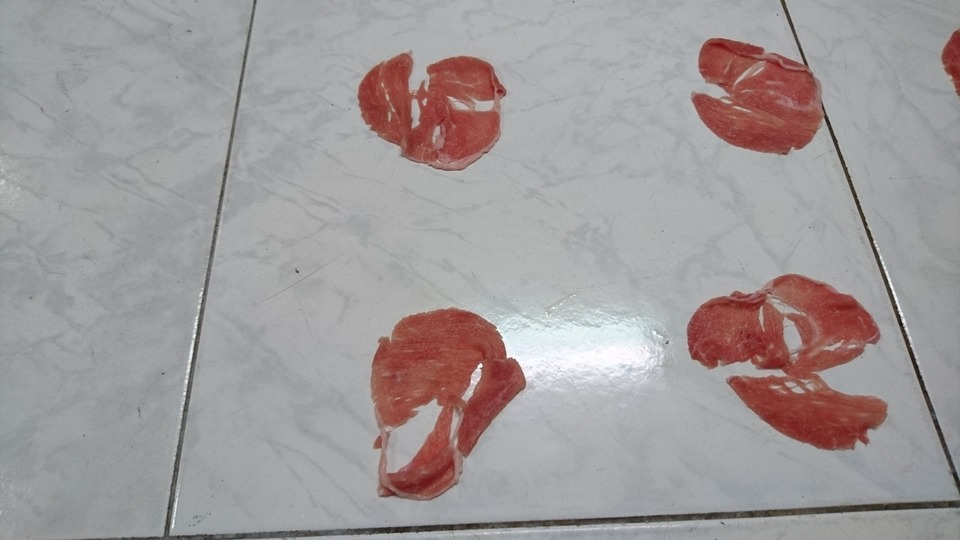restructured meat: (687, 252, 888, 457), (373, 300, 529, 507), (328, 55, 508, 173), (686, 32, 833, 170)
